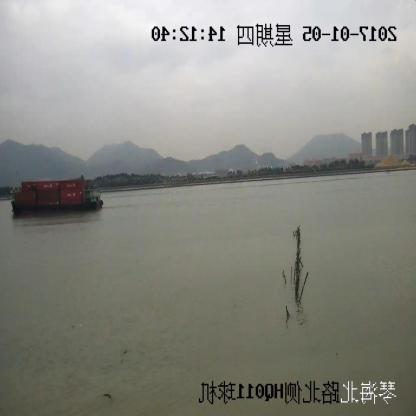Container Ship: (12, 178, 103, 216)
